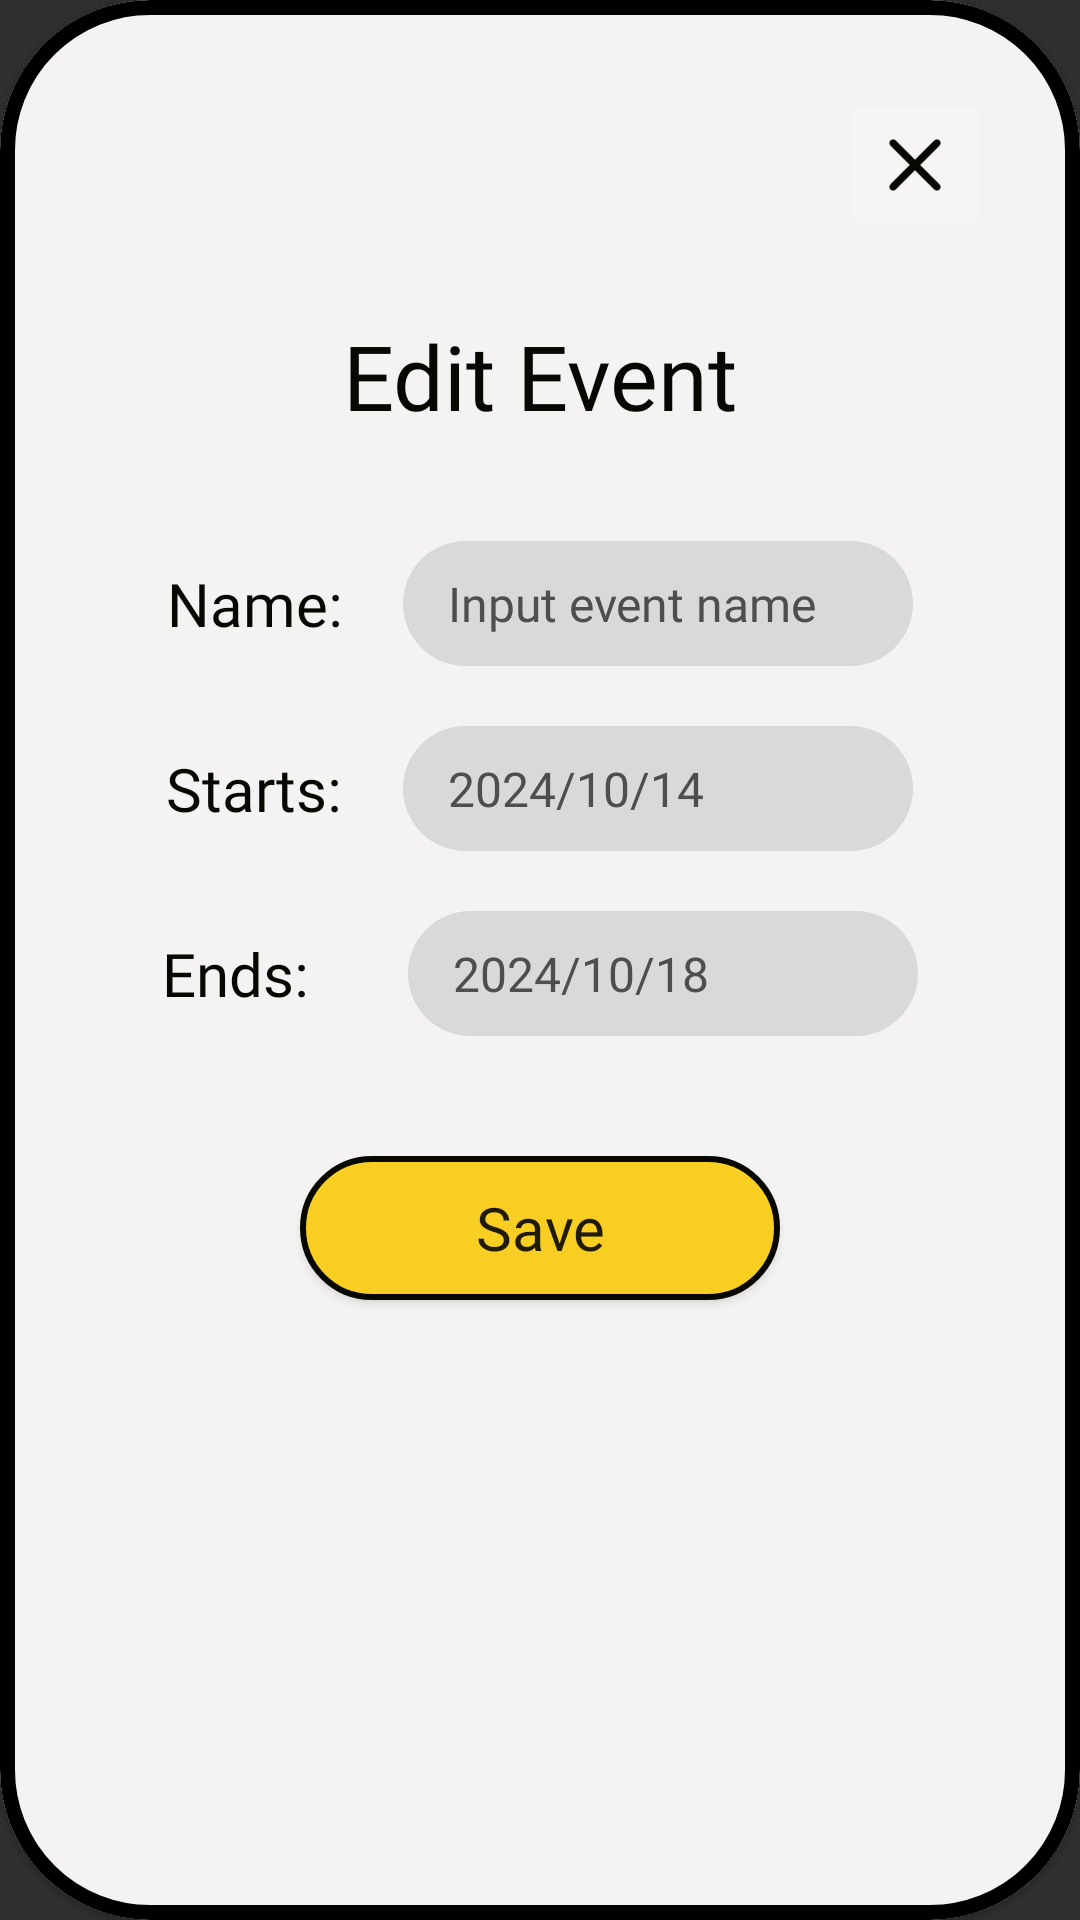

Screen size 1080x1920. Icon name, then its center in pixels as point (x, y):
close: point (915, 165)
